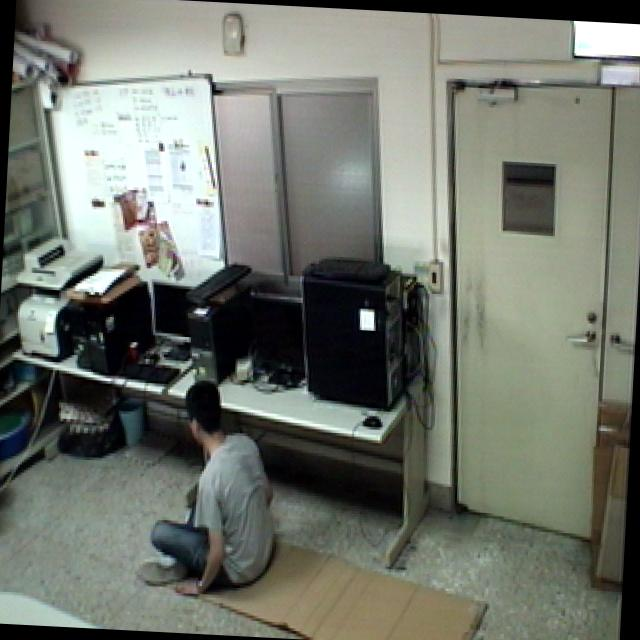sit: (126, 367, 288, 608)
